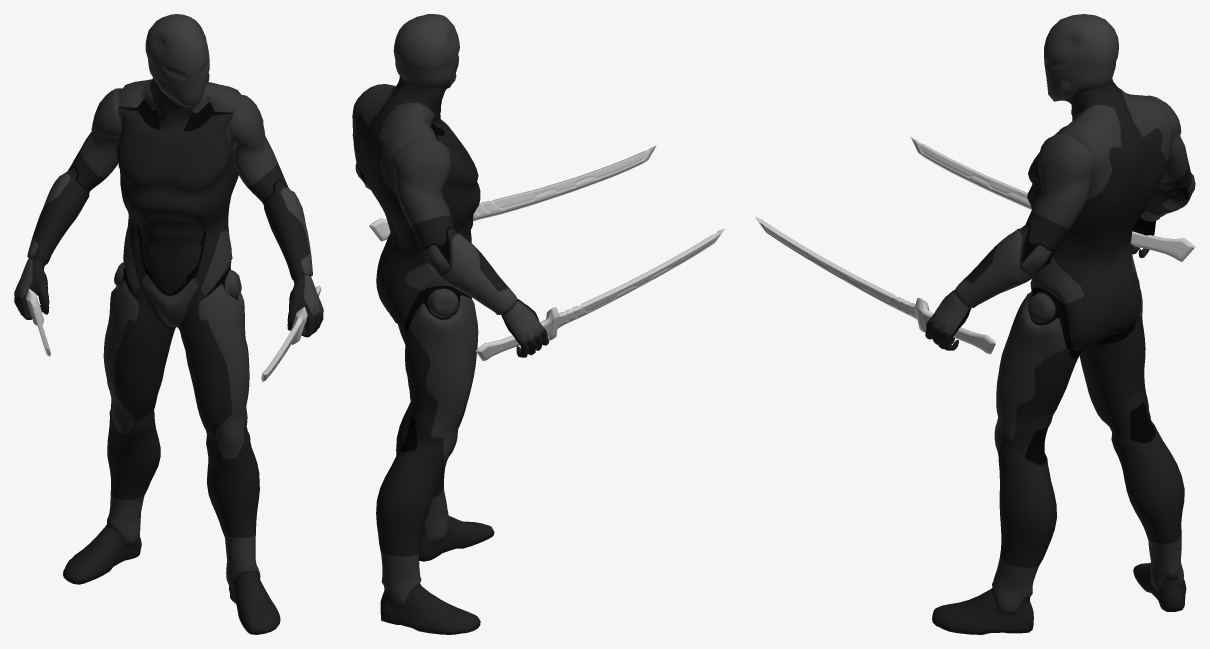
3 renders of one model, left to right at view 1: azimuth 30°, elevation 25°; view 2: azimuth 150°, elevation 25°; view 3: azimuth 270°, elevation 25°, orthographic. The views are drawn at different scales.
Visible parts, largest first — view 1: Cyborg_Ninja_Killer, Sword_l, Sword_l001; view 2: Cyborg_Ninja_Killer, Sword_l001, Sword_l; view 3: Cyborg_Ninja_Killer, Sword_l, Sword_l001.
Part boxes in pixels (x1,y1,x2,y2): Cyborg_Ninja_Killer: [14, 14, 323, 634]; Sword_l: [261, 285, 321, 381]; Sword_l001: [21, 274, 50, 356]; Cyborg_Ninja_Killer: [352, 14, 549, 634]; Sword_l001: [476, 228, 724, 361]; Sword_l: [369, 145, 656, 241]; Cyborg_Ninja_Killer: [925, 14, 1195, 634]; Sword_l: [755, 216, 995, 354]; Sword_l001: [910, 136, 1195, 261].
Size of the model in its own units: 106 by 182 by 122.
